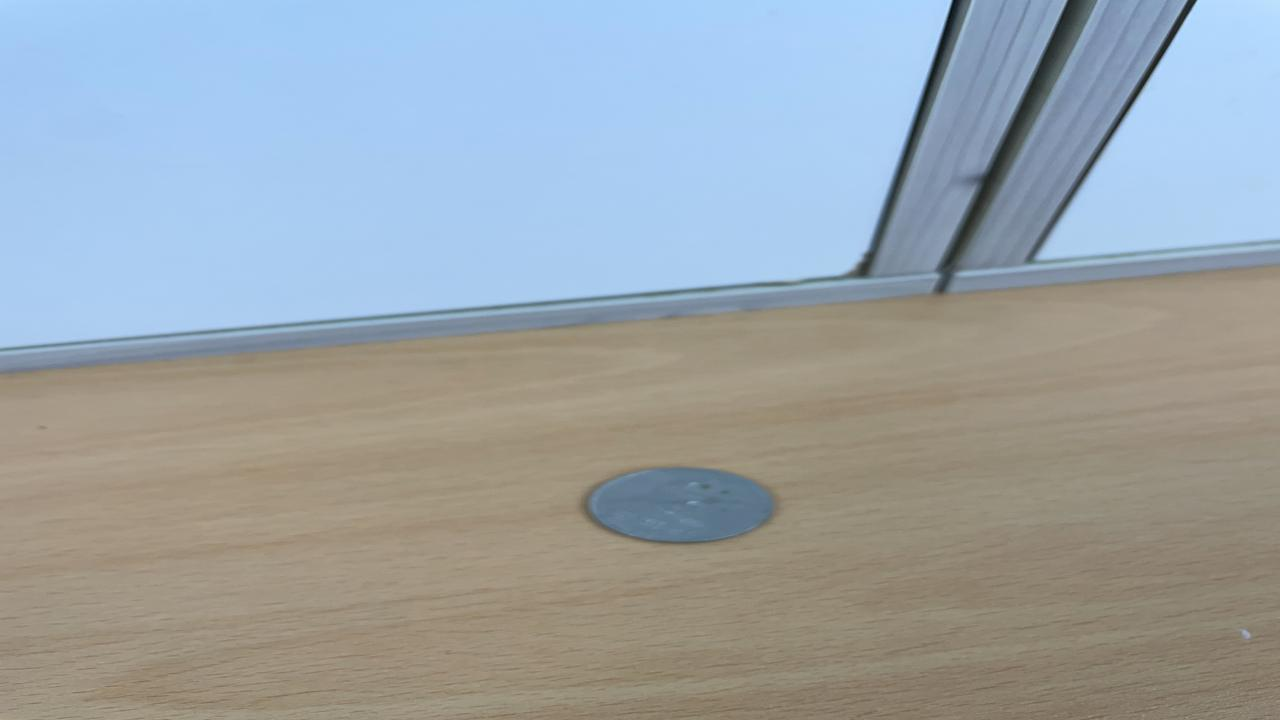coin: (575, 465, 782, 544)
